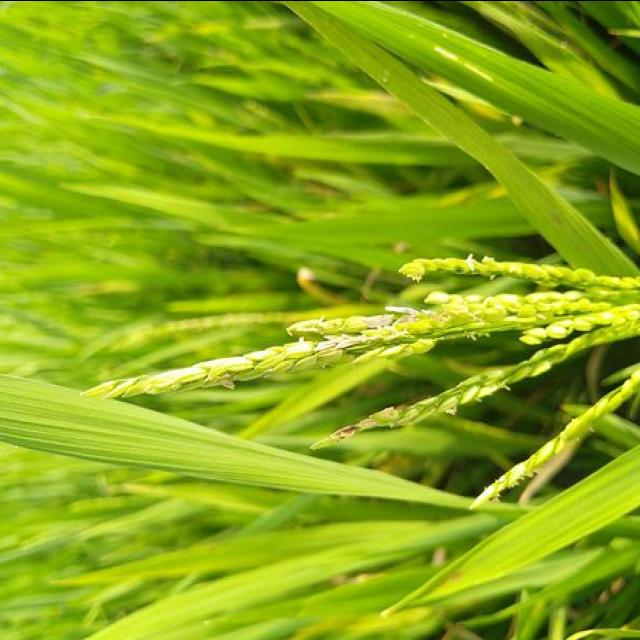Panicle Blight: (322, 417, 381, 445)
